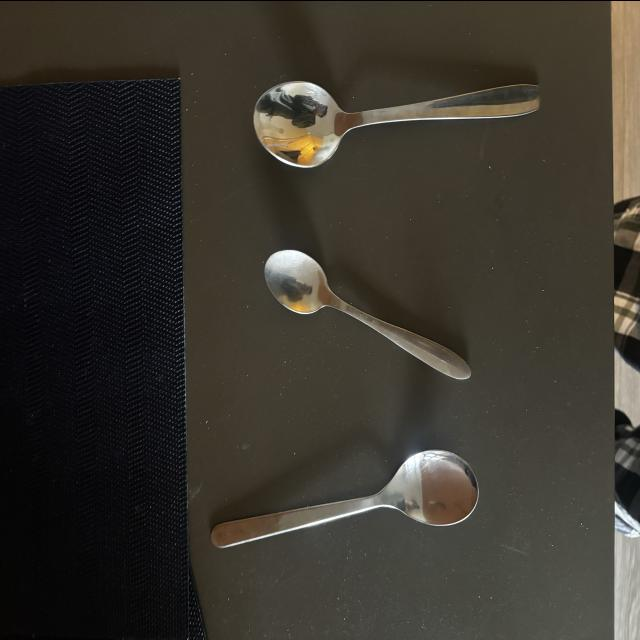spoon: (210, 446, 482, 547), (266, 249, 474, 379), (253, 77, 542, 167)
